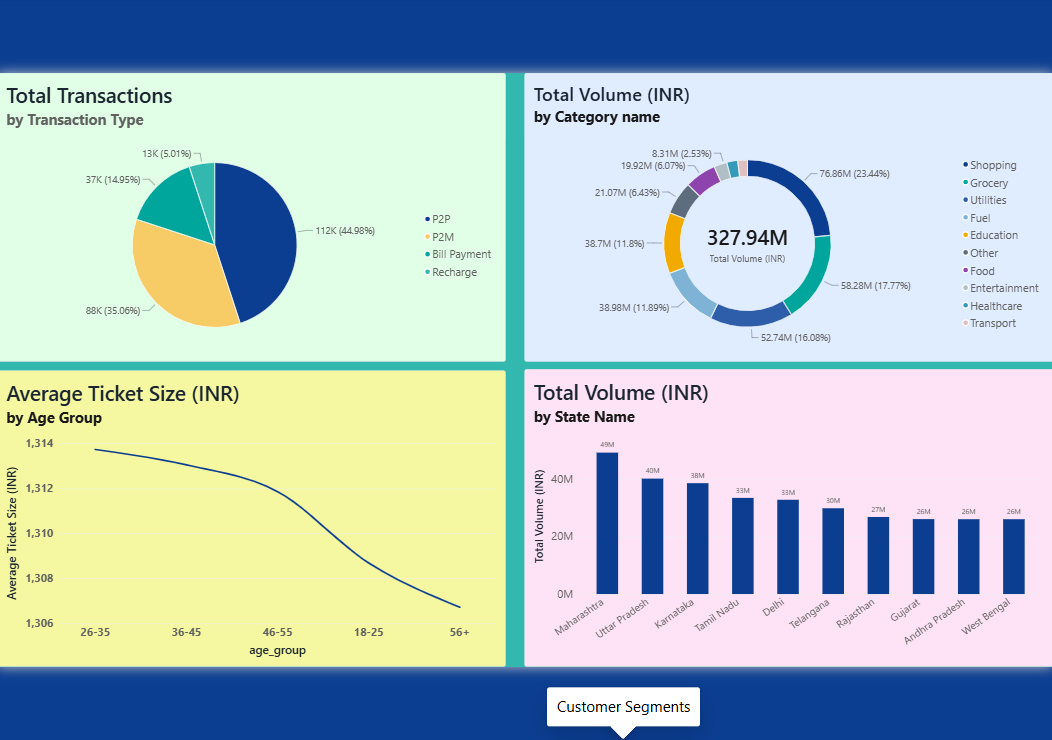

The page's visual inventory and layout, read from the dashboard file:
{"tool":"powerbi","page":{"name":"Customer Segments","canvas":[1920,1080],"ordinal":2},"visuals":[{"type":"lineChart","title":"Average Ticket Size (INR)","fields":{"Category":["dim_age_group.age_group"],"Y":["_Measures.Average Ticket Size (INR)"]},"box":[0,540.9,925,538.6],"z":0},{"type":"columnChart","title":"Total Volume (INR)","fields":{"Category":["dim_state.state_name"],"Y":["_Measures.Total Volume (INR)"]},"box":[959.1,538.6,961.4,540.9],"z":1000},{"type":"donutChart","title":"Total Volume (INR)","fields":{"Category":["dim_merchant_category.category_name"],"Y":["_Measures.Total Volume (INR)"]},"box":[959.1,0,961.4,525],"z":2000},{"type":"pieChart","title":"Total Transactions","fields":{"Category":["dim_transaction_type.txn_type_name"],"Y":["_Measures.Total Transactions"]},"box":[0,0,925,525],"z":3000}]}

Visuals, with their boxes on the page's 1920x1080 design canvas (x1, y1, x2, y2). These are canvas units, not pixel positions in the 1052x740 screenshot, which may show the page scaled, cropped or inside an application window:
"Average Ticket Size (INR)" lineChart: (0,541,925,1080)
"Total Volume (INR)" columnChart: (959,539,1920,1080)
"Total Volume (INR)" donutChart: (959,0,1920,525)
"Total Transactions" pieChart: (0,0,925,525)
